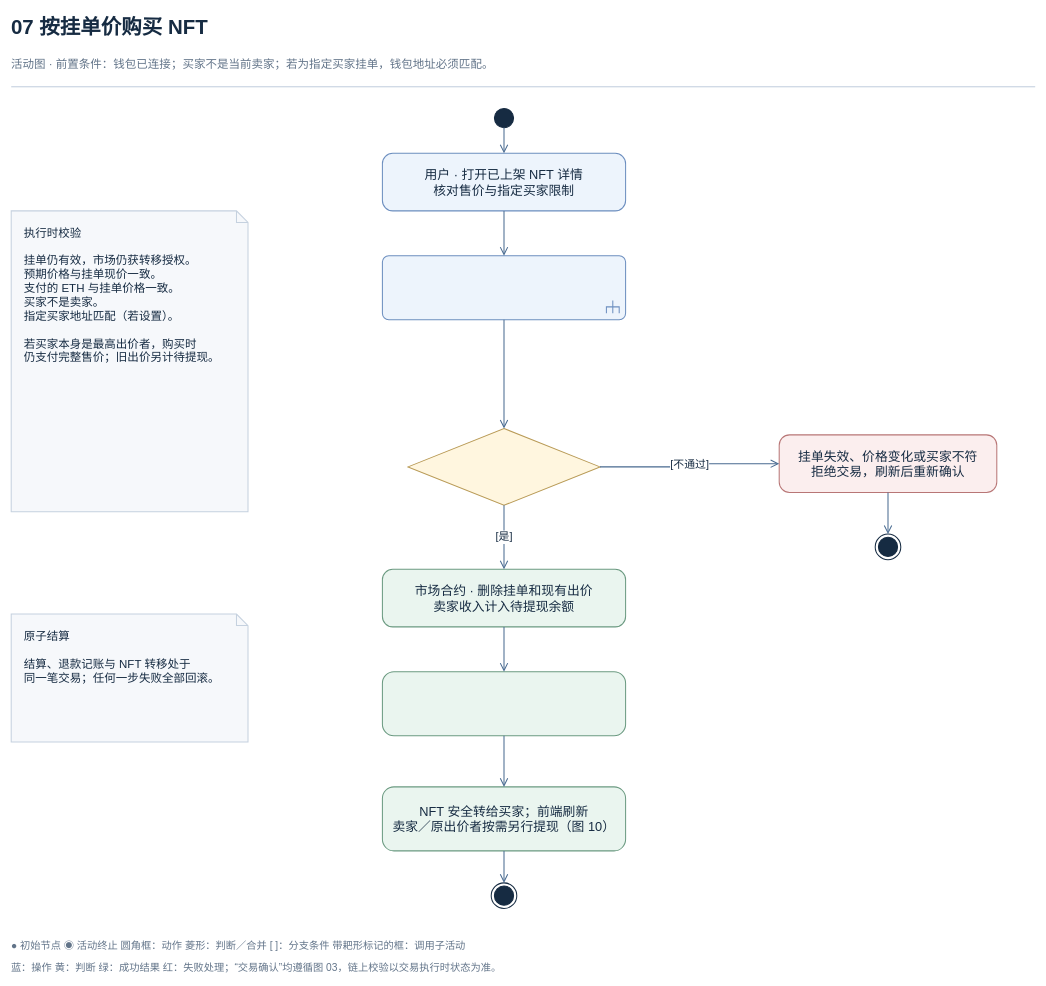
The diagram is 1046 pixels wide and 986 high, and some of its shapes have lost their labels. Each missing label, with the centre of its shape:
"市场合约 · 若有最高出价 将全额出价退回原出价者待提现余额" goes at pixel 504 703.
"挂单、价格与买家有效？" goes at pixel 503 466.
"提交并确认 buy(id, expectedPrice) 携带页面确认的精确售价（见图 03）" goes at pixel 504 287.
